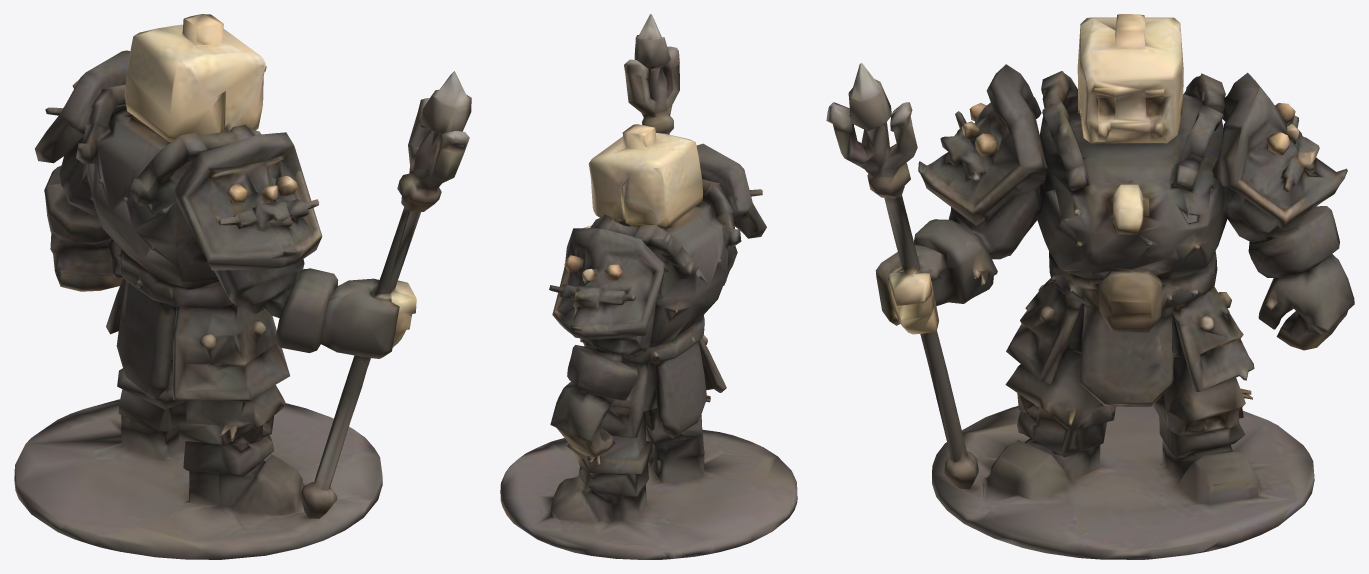
Rendered from fig-chariot.glb.
3 renders of one model, left to right at view 1: azimuth 30°, elevation 25°; view 2: azimuth 150°, elevation 25°; view 3: azimuth 270°, elevation 25°, orthographic. The views are drawn at different scales.
Parts seen in each view (by area): view 1: tripo_node_6a523104-26cf-45f9-8321-4bfe4012cb69; view 2: tripo_node_6a523104-26cf-45f9-8321-4bfe4012cb69; view 3: tripo_node_6a523104-26cf-45f9-8321-4bfe4012cb69.
Part boxes in pixels (x1,y1,x2,y2): tripo_node_6a523104-26cf-45f9-8321-4bfe4012cb69: (14,14,471,559); tripo_node_6a523104-26cf-45f9-8321-4bfe4012cb69: (500,14,797,559); tripo_node_6a523104-26cf-45f9-8321-4bfe4012cb69: (826,14,1354,559).
Bounding box in the file's own units: 0.7059 × 0.9991 × 0.9926.
1 material, 1 textured.
